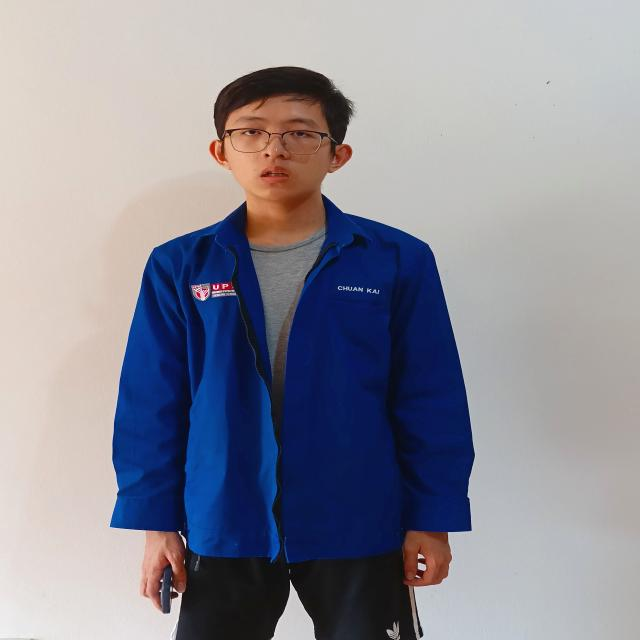person_with_labcoat: (113, 67, 474, 640)
